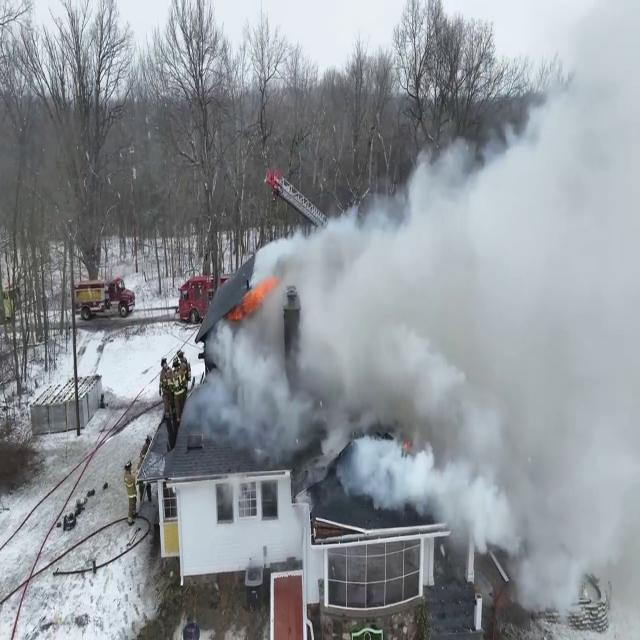Smoke: (204, 21, 640, 600)
